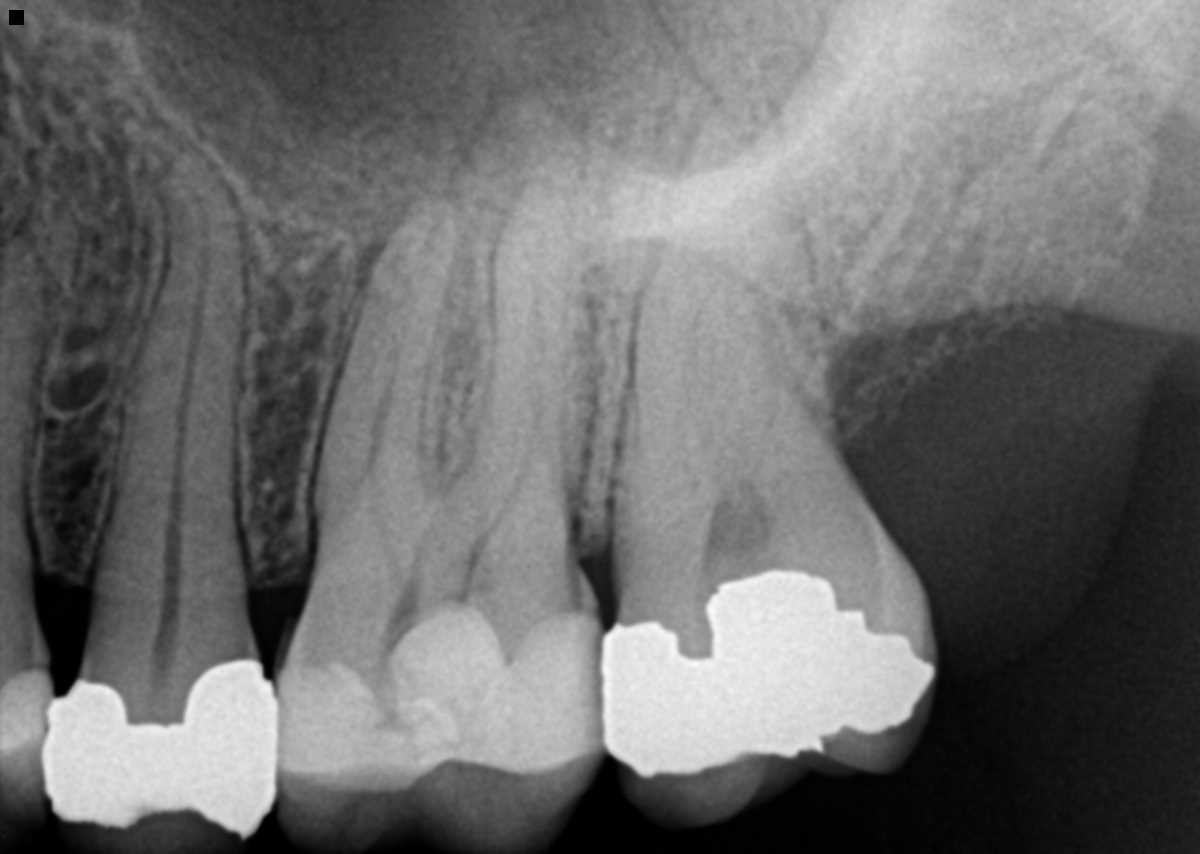Distal Canal: (468, 233, 545, 554)
Distal Root: (448, 182, 580, 540), (695, 280, 865, 526)
Main Canal: (152, 169, 212, 678)
Main Root: (75, 115, 261, 708), (0, 236, 47, 578)
Mesial Canal: (613, 206, 737, 544), (368, 291, 420, 577)
Mesial Root: (310, 204, 457, 537), (703, 484, 774, 583)
Palatal Root: (371, 78, 575, 625), (641, 85, 858, 535)
